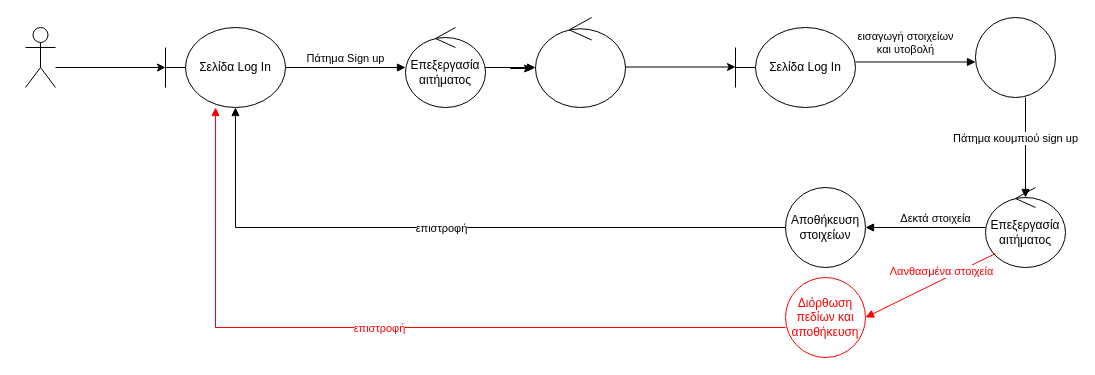
The diagram is 1095 pixels wide and 375 high, and some of its shapes have lost their labels. Here are the shapes that lost their labels. From the top down, the centre of each, then its label:
At (x=40, y=57): "Χρήστης".
At (x=580, y=62): "Εμφάνισε".
At (x=1015, y=57): "Υποβολή;".
